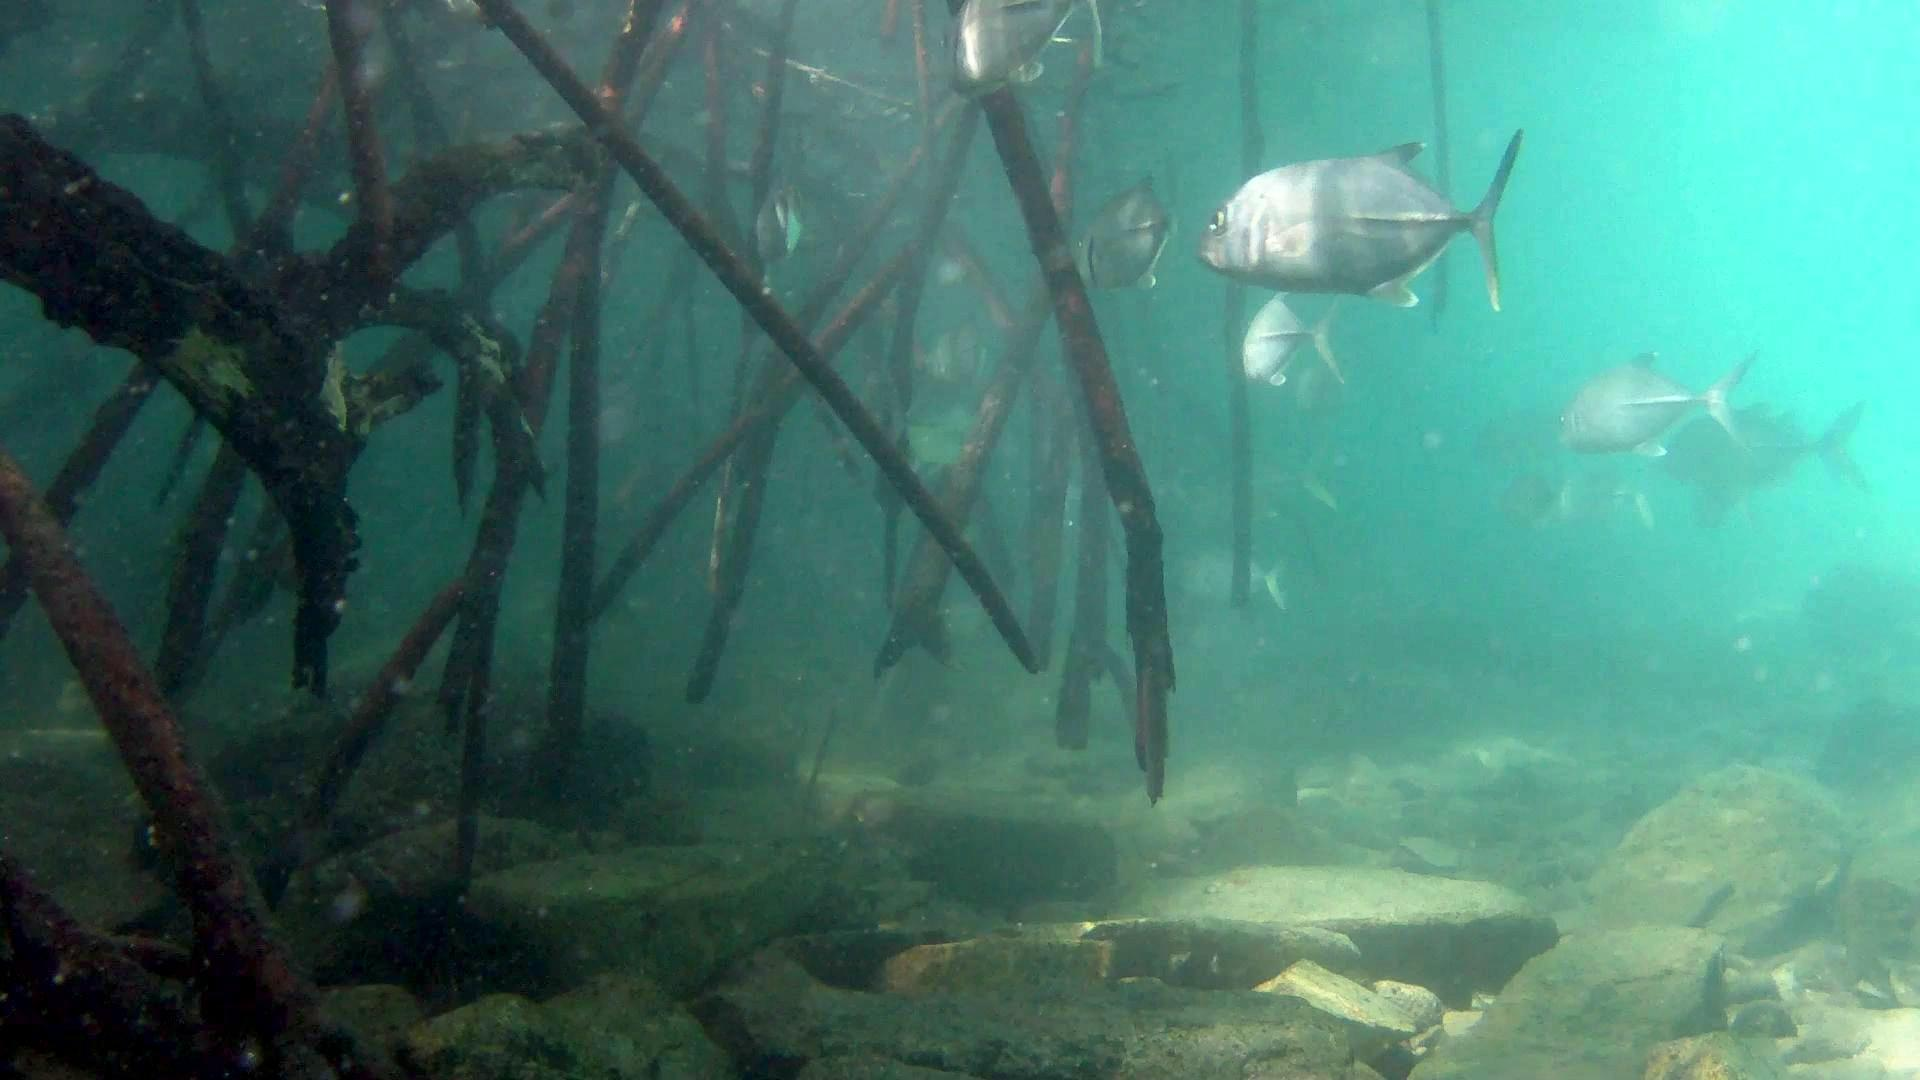caranx: (1178, 119, 1539, 327)
